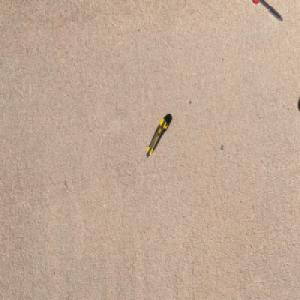Cutter: (145, 115, 170, 159)
